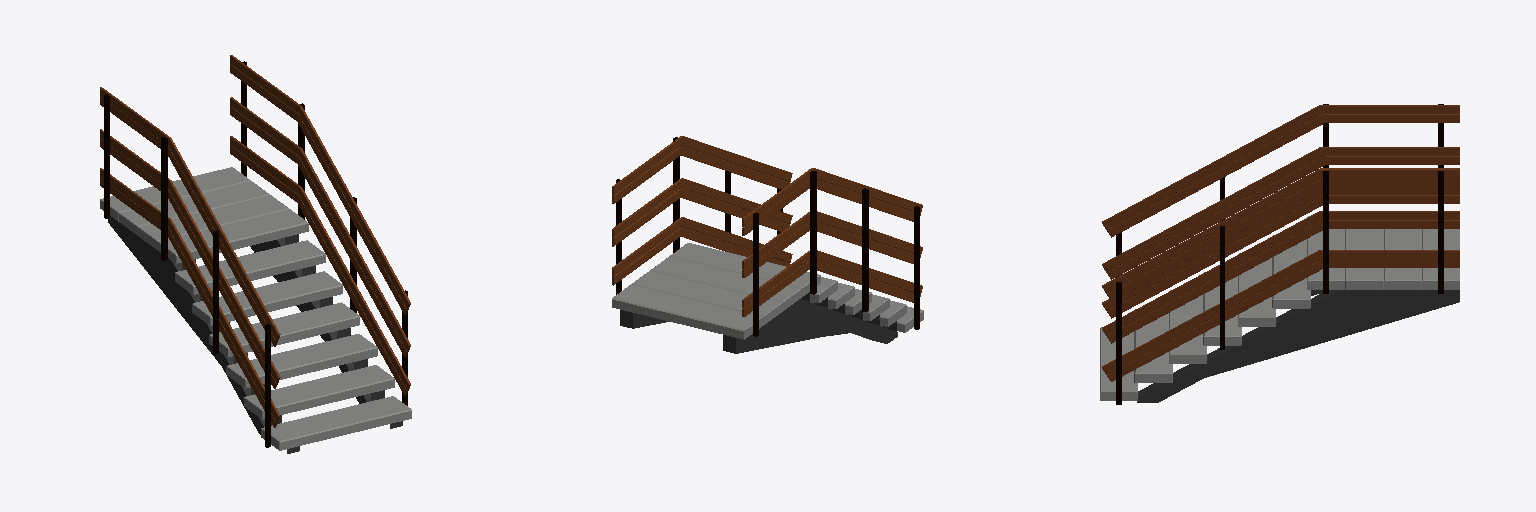
Rendered from outdoor_staircase.obj.
3 views of the same model, side by side, from view 1: azimuth 30°, elevation 25°; view 2: azimuth 150°, elevation 25°; view 3: azimuth 270°, elevation 25° (orthographic).
Visible parts, largest first — view 1: Stair069, Bottom002, Stair062, Stair055, Stair041, Stair034, Stair048, Stair, Stair007, Stair014, Bottom1, Stair021 (+25 smaller); view 2: Bottom002, Stair021, Stair014, Stair007, Stair, Box012, Box011, Box117, Box037, Box121, Box125, Box118 (+21 smaller); view 3: Bottom1, Box121, Box117, Box012, Box089, Box037, Box118, Box122, Box038, Box126, Box090, Box011 (+27 smaller).
Part boxes in pixels (x1,y1,x2,y2): Stair069: (261,396,411,450); Bottom002: (108,216,299,453); Stair062: (243,365,394,419); Stair055: (226,334,377,388); Stair041: (192,271,342,325); Stair034: (175,240,325,294); Stair048: (209,302,359,356); Stair: (157,209,308,263); Stair007: (138,195,288,249); Stair014: (119,181,269,235); Bottom1: (250,234,402,428); Stair021: (100,167,250,221); Bottom002: (723,292,897,353); Stair021: (612,285,762,339); Stair014: (631,271,781,325); Stair007: (650,257,801,311); Stair: (669,243,820,297); Box012: (679,136,792,181); Box011: (681,146,789,189); Box117: (809,168,922,213); Box037: (679,178,792,223); Box121: (817,211,922,255); Box125: (817,250,922,294); Box118: (817,179,920,221); Bottom1: (1137,290,1459,402); Box121: (1102,147,1325,271); Box117: (1102,105,1325,229); Box012: (1102,168,1325,293); Box089: (1102,250,1322,374); Box037: (1102,211,1322,335); Box118: (1107,113,1325,237); Box122: (1106,155,1325,279); Box038: (1107,220,1322,343); Box126: (1107,195,1322,318); Box090: (1107,259,1322,381); Box011: (1107,178,1322,300).
Bounding box in the file's own units: 0.4539 × 0.7287 × 1.